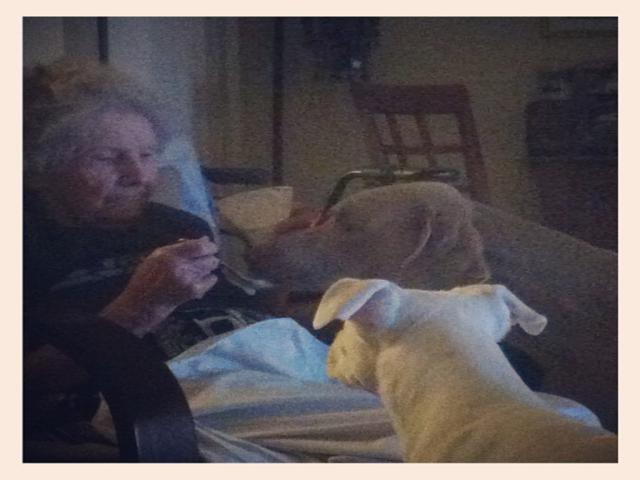Dog: (312, 278, 617, 463)
